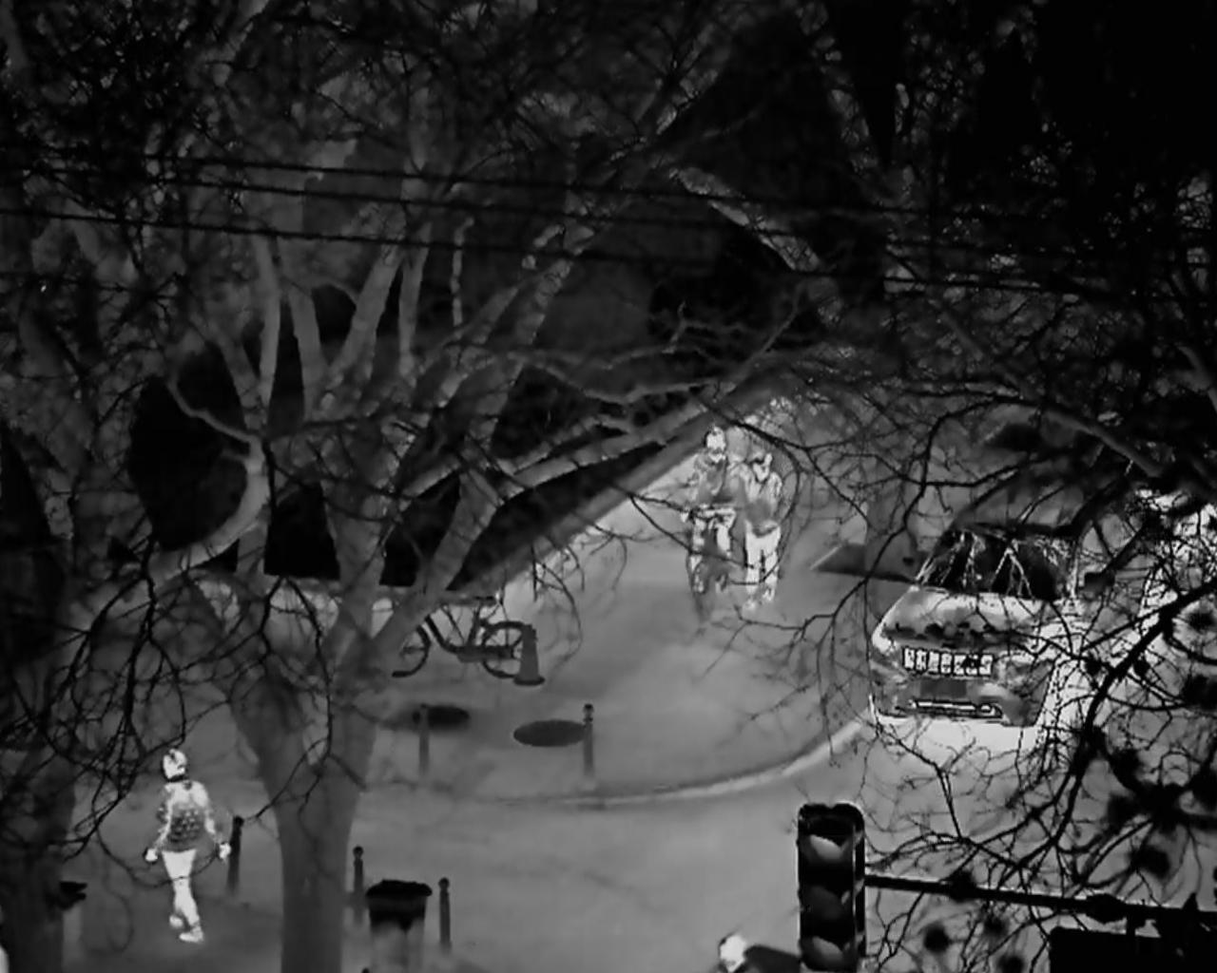person: (144, 748, 232, 943), (679, 425, 740, 568), (738, 446, 782, 612)
